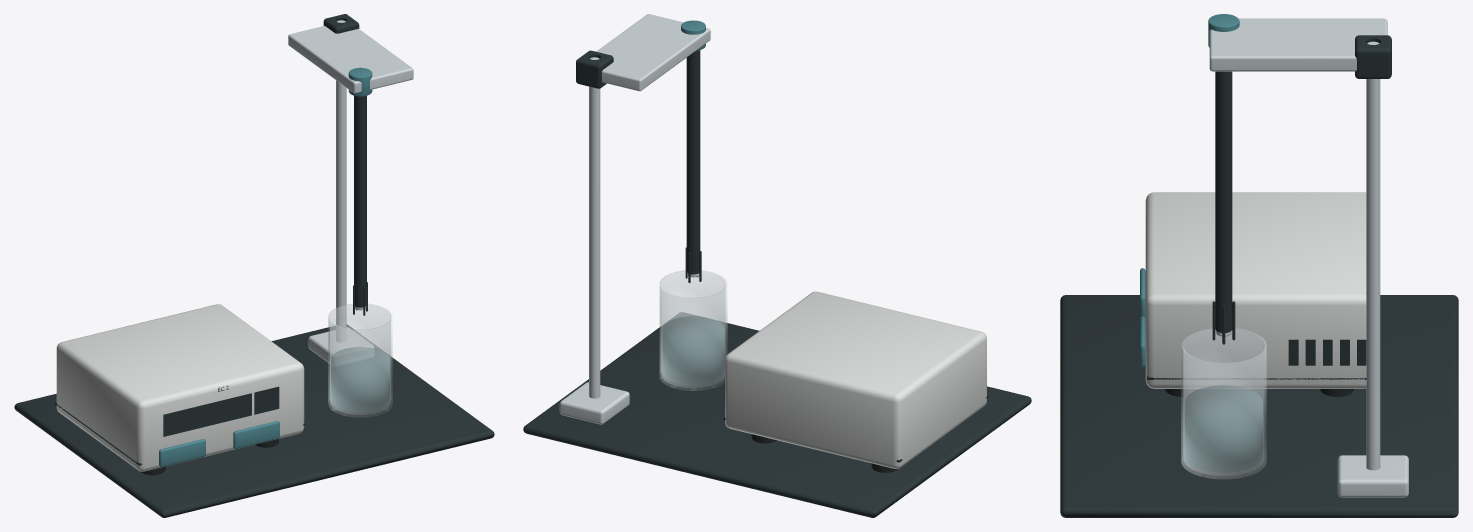
File: preview.glb
3 views of the same model, side by side, from view 1: azimuth 30°, elevation 25°; view 2: azimuth 150°, elevation 25°; view 3: azimuth 270°, elevation 25° (orthographic). The views are drawn at different scales.
Parts seen in each view (by area): view 1: Kit base, Enamel enclosure, Sample vessel, Conductivity electrode, Stand foot, Synthetic solution, Electrode stem, Live LCD surface, Meter key.001, Meter key, Live LCD surface.001; view 2: Enamel enclosure, Kit base, Sample vessel, Stand foot, Conductivity electrode, Electrode stem, Synthetic solution; view 3: Kit base, Enamel enclosure, Sample vessel, Stand foot, Conductivity electrode, Electrode stem, Synthetic solution, Lower seam, Probe head.
Boxes of the visible parts, left/top/right/bottom form: Kit base: left=14, top=324, right=494, bottom=517; Enamel enclosure: left=56, top=304, right=304, bottom=471; Sample vessel: left=328, top=303, right=392, bottom=417; Conductivity electrode: left=288, top=26, right=413, bottom=310; Stand foot: left=308, top=20, right=373, bottom=366; Synthetic solution: left=331, top=347, right=389, bottom=412; Electrode stem: left=323, top=14, right=367, bottom=315; Live LCD surface: left=163, top=393, right=251, bottom=436; Meter key.001: left=233, top=421, right=279, bottom=448; Meter key: left=159, top=439, right=205, bottom=466; Live LCD surface.001: left=254, top=386, right=279, bottom=414; Enamel enclosure: left=725, top=291, right=986, bottom=468; Kit base: left=523, top=312, right=1031, bottom=517; Sample vessel: left=659, top=270, right=727, bottom=390; Stand foot: left=559, top=57, right=629, bottom=424; Conductivity electrode: left=596, top=14, right=710, bottom=277; Electrode stem: left=576, top=50, right=701, bottom=282; Synthetic solution: left=662, top=316, right=724, bottom=385; Kit base: left=1060, top=295, right=1458, bottom=517; Enamel enclosure: left=1145, top=192, right=1366, bottom=388; Sample vessel: left=1181, top=328, right=1266, bottom=479; Stand foot: left=1337, top=41, right=1408, bottom=497; Conductivity electrode: left=1209, top=18, right=1387, bottom=336; Electrode stem: left=1212, top=35, right=1391, bottom=344; Synthetic solution: left=1185, top=385, right=1262, bottom=472; Lower seam: left=1147, top=339, right=1366, bottom=379; Probe head: left=1208, top=14, right=1239, bottom=47.
Size of the model in its own units: 0.36 by 0.352 by 0.28.
